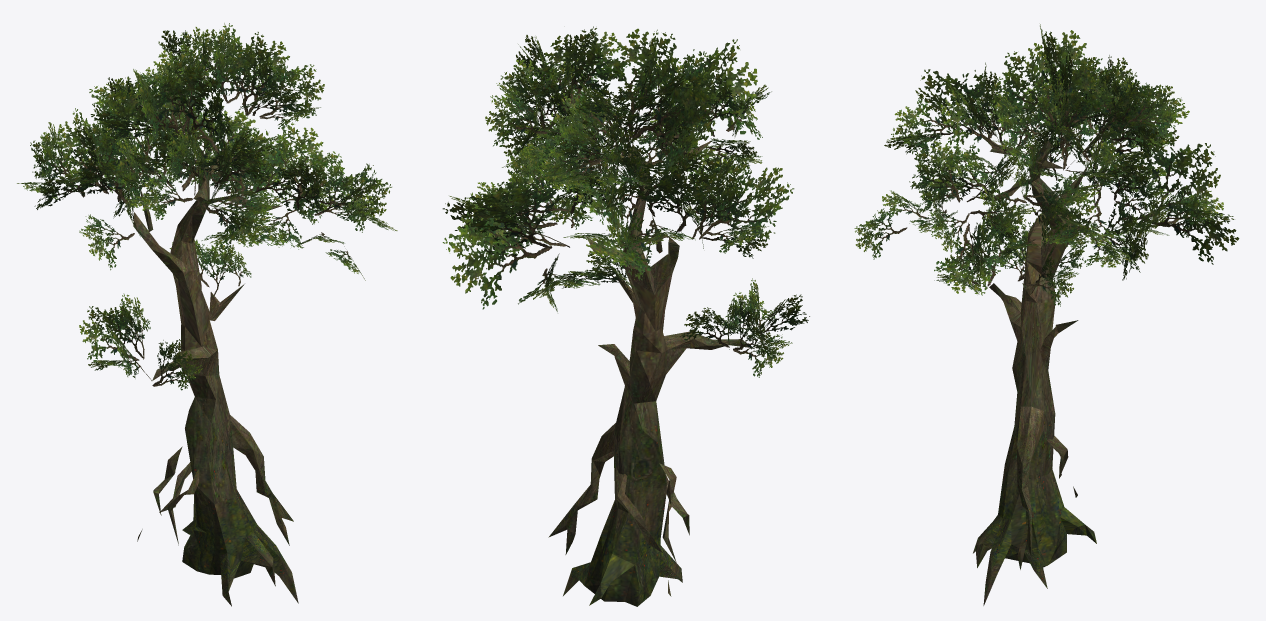
File: d_sd_shu01_zw.FBX
3 renders of one model, left to right at view 1: azimuth 30°, elevation 25°; view 2: azimuth 150°, elevation 25°; view 3: azimuth 270°, elevation 25°, orthographic. The views are drawn at different scales.
Parts seen in each view (by area): view 1: d_sd_shu01_zw_B, d_sd_shu01_zw_A; view 2: d_sd_shu01_zw_B, d_sd_shu01_zw_A; view 3: d_sd_shu01_zw_B, d_sd_shu01_zw_A.
Part boxes in pixels (<box>): d_sd_shu01_zw_B: <box>17,23,397,390</box>; d_sd_shu01_zw_A: <box>133,153,298,606</box>; d_sd_shu01_zw_B: <box>442,26,809,377</box>; d_sd_shu01_zw_A: <box>548,140,749,606</box>; d_sd_shu01_zw_B: <box>854,24,1239,306</box>; d_sd_shu01_zw_A: <box>972,135,1096,605</box>.
Bounding box in the file's own units: 1036 × 1727 × 1151.
